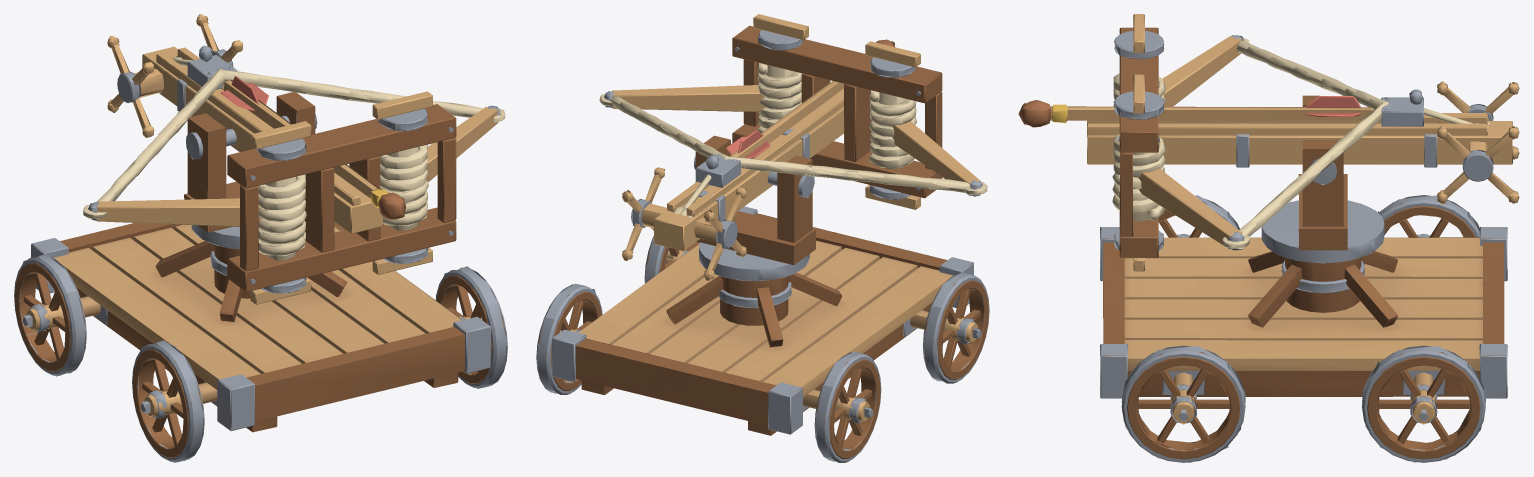
Rendered from balista.glb.
3 views of the same model, side by side, from view 1: azimuth 30°, elevation 25°; view 2: azimuth 150°, elevation 25°; view 3: azimuth 270°, elevation 25° (orthographic). The views are drawn at different scales.
Visible parts, largest first — view 1: ballista_body; view 2: ballista_body; view 3: ballista_body.
Boxes of the visible parts, x1,y1,x2,y2 form: ballista_body: (14, 14, 507, 462); ballista_body: (536, 14, 989, 462); ballista_body: (1018, 14, 1519, 462).
Bounding box in the file's own units: 2.54 × 1.87 × 2.59.
8 materials, 1 textured.
